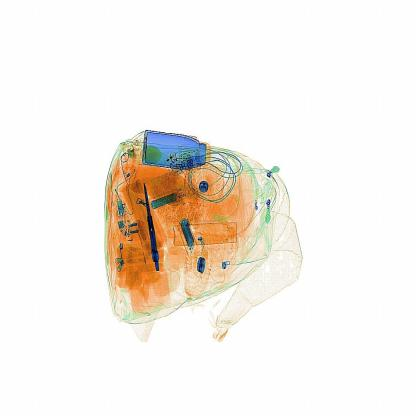gun: (136, 175, 162, 269)
